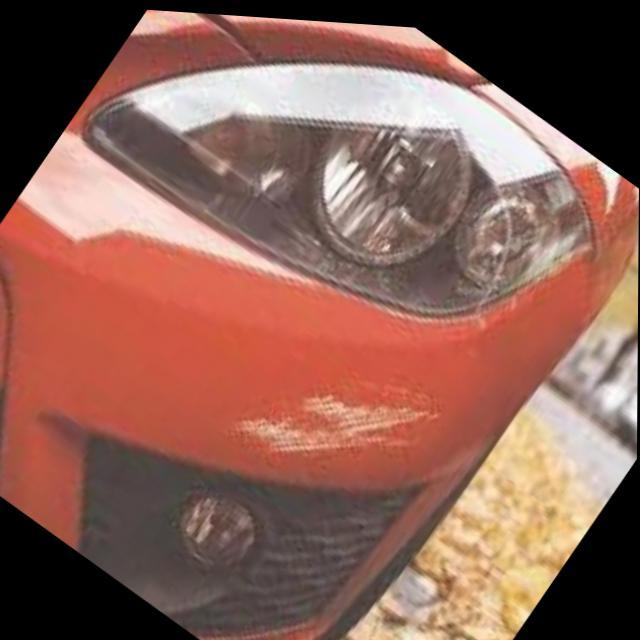rub: (240, 380, 436, 455)
